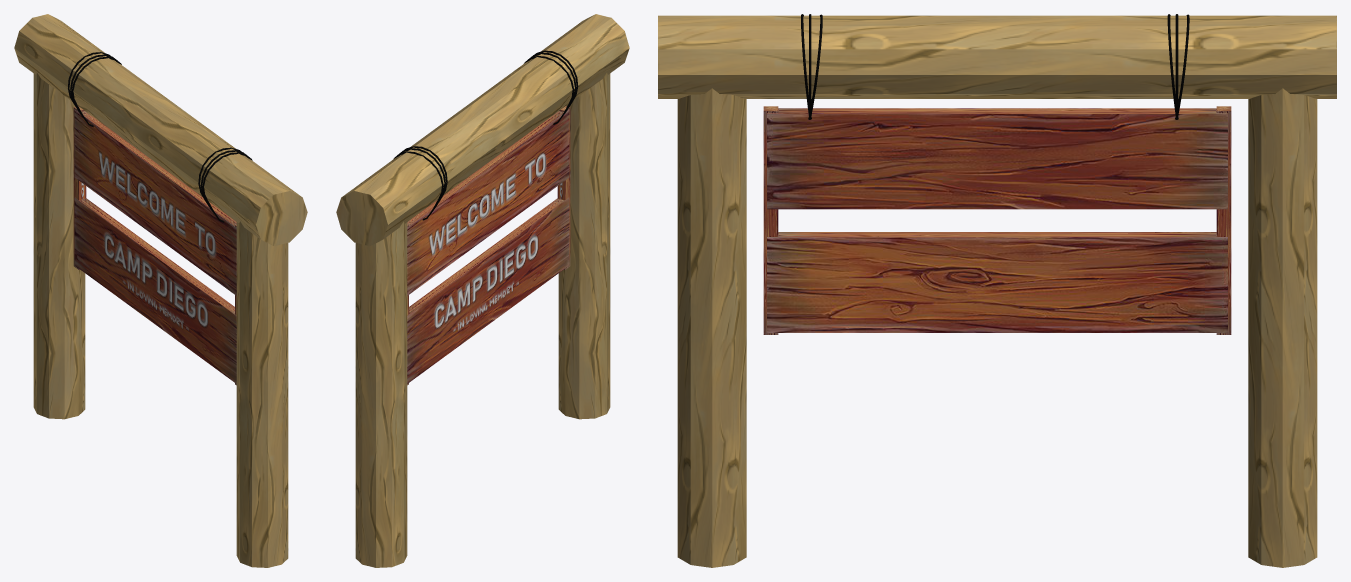
Rendered from SM_CampDiegoSign.fbx.
3 views of the same model, side by side, from view 1: azimuth 30°, elevation 25°; view 2: azimuth 150°, elevation 25°; view 3: azimuth 270°, elevation 25° (orthographic). The views are drawn at different scales.
Parts seen in each view (by area): view 1: CampDiegoSign; view 2: CampDiegoSign; view 3: CampDiegoSign.
Part boxes in pixels (x1=…): CampDiegoSign: x1=14, y1=14, x2=307, y2=567; CampDiegoSign: x1=336, y1=14, x2=629, y2=567; CampDiegoSign: x1=658, y1=14, x2=1336, y2=567.
Bounding box in the file's own units: 1.96 × 13.27 × 15.26.
4 materials, 3 textured.
